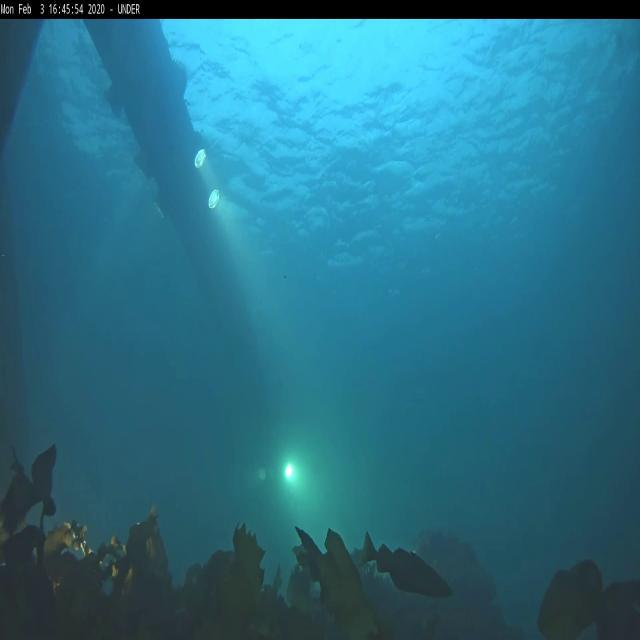fish: (362, 530, 454, 600)
